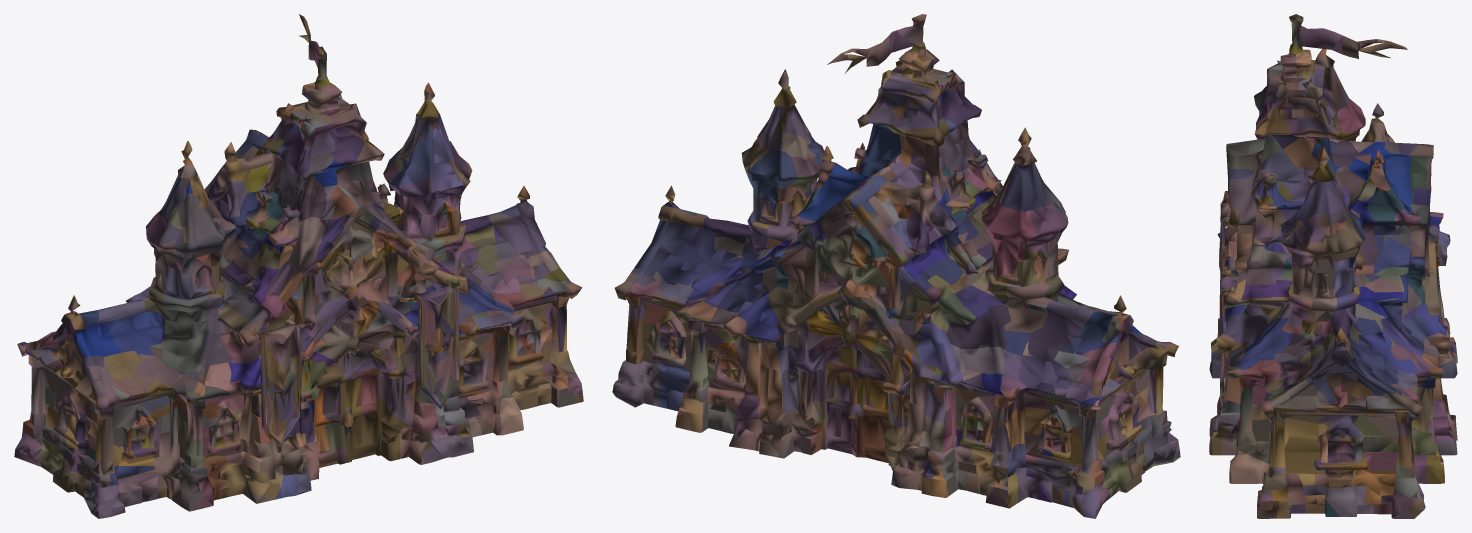
Rendered from town-hall.glb.
3 views of the same model, side by side, from view 1: azimuth 30°, elevation 25°; view 2: azimuth 150°, elevation 25°; view 3: azimuth 270°, elevation 25° (orthographic). The views are drawn at different scales.
Visible parts, largest first — view 1: Echo_Building_Export; view 2: Echo_Building_Export; view 3: Echo_Building_Export.
Part boxes in pixels (x1,y1,x2,y2): Echo_Building_Export: (14, 14, 583, 518); Echo_Building_Export: (612, 14, 1180, 518); Echo_Building_Export: (1209, 14, 1457, 518).
Size of the model in its own units: 0.9789 by 0.7694 by 0.4459.
1 material, 1 textured.
